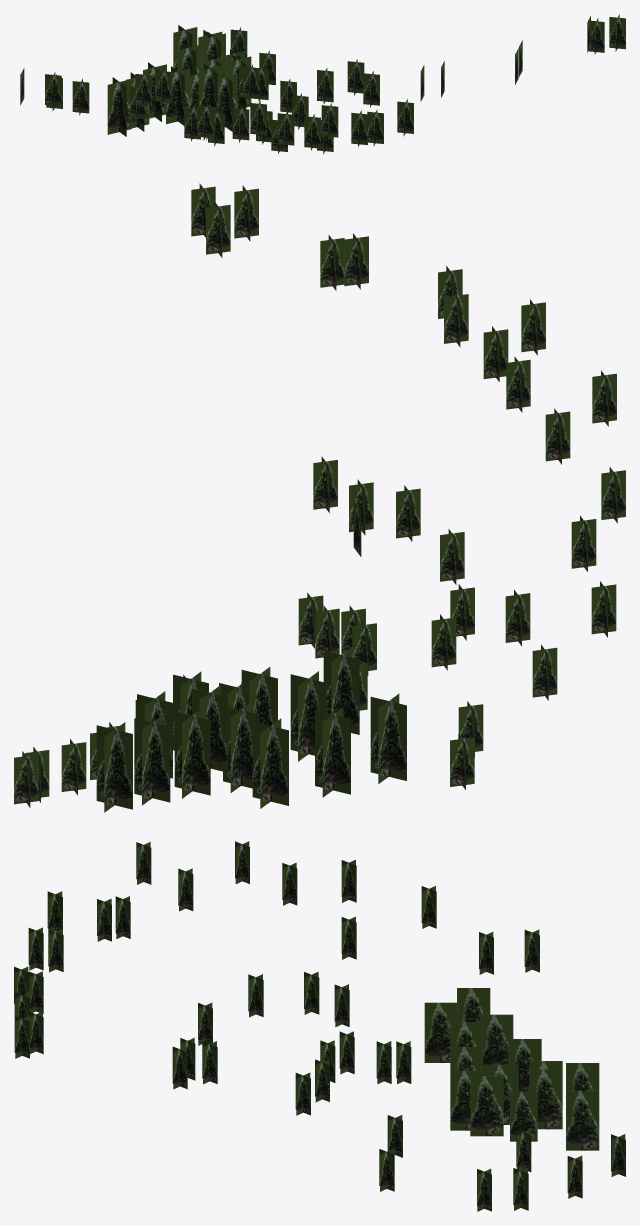
Rendered from RM_PLAYSURFACE_FINAL_INST_PINE_LOD1_219.fbx.
3 renders of one model, top to bottom at view 1: azimuth 30°, elevation 25°; view 2: azimuth 150°, elevation 25°; view 3: azimuth 270°, elevation 25°, orthographic. The views are drawn at different scales.
Visible parts, largest first — view 1: RM_PLAYSURFACE_FINAL_INST_PINE_LOD1_219; view 2: RM_PLAYSURFACE_FINAL_INST_PINE_LOD1_219; view 3: RM_PLAYSURFACE_FINAL_INST_PINE_LOD1_219.
Part boxes in pixels (bbox=[...]): RM_PLAYSURFACE_FINAL_INST_PINE_LOD1_219: bbox=[20, 14, 625, 154]; RM_PLAYSURFACE_FINAL_INST_PINE_LOD1_219: bbox=[14, 183, 625, 812]; RM_PLAYSURFACE_FINAL_INST_PINE_LOD1_219: bbox=[14, 841, 625, 1211].
Bounding box in the file's own units: 751857 × 392476 × 805157.
Materials: 1 (1 with a texture image).
